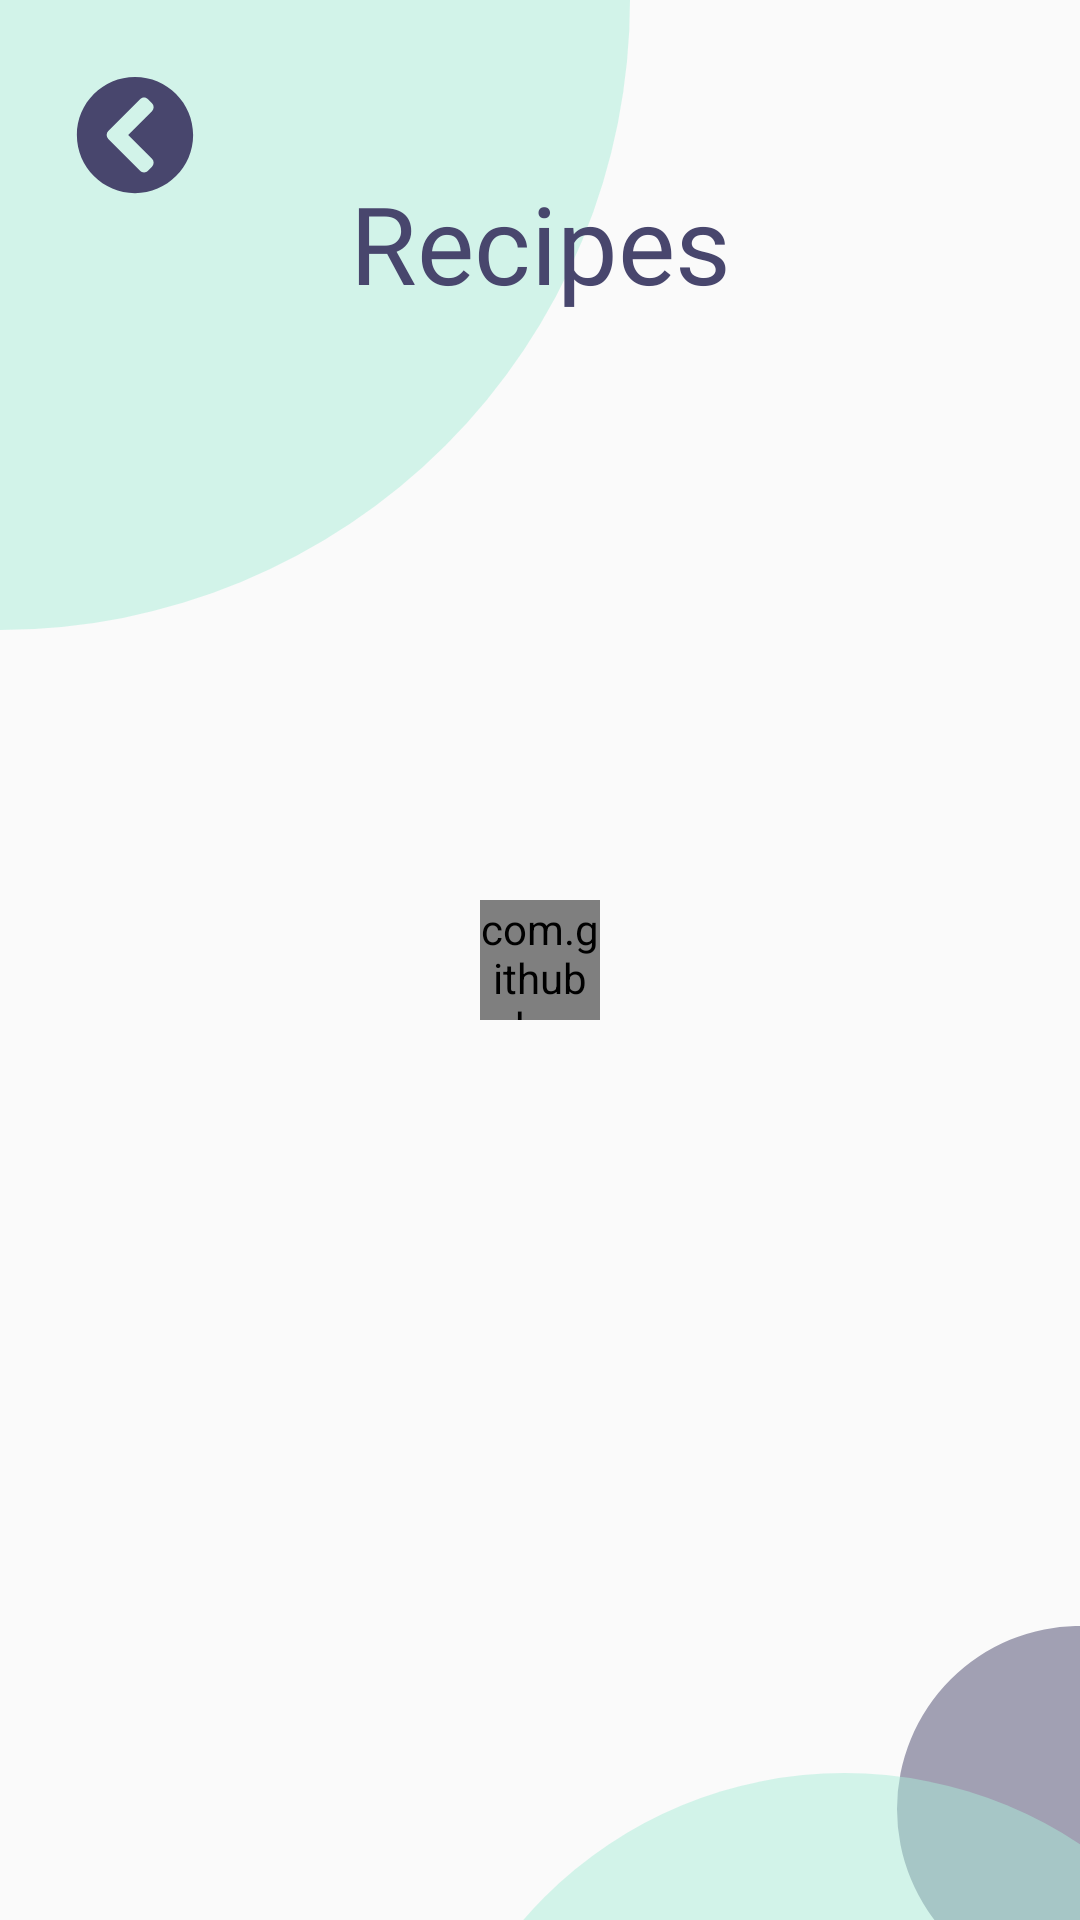

Locate icon controls on the screen. Image size 1080 × 1920, boxes as box=[x1, y1, x2, y2].
back arrow: box=[77, 77, 193, 194]
